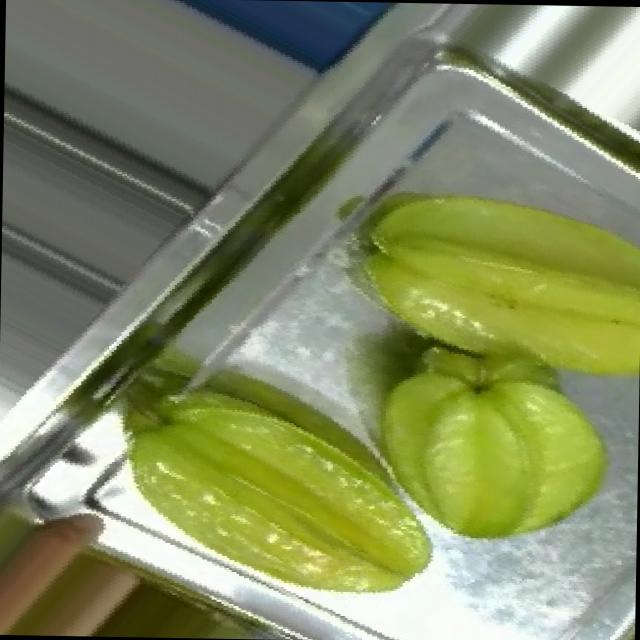fruit: (312, 132, 640, 478), (96, 340, 463, 640), (320, 310, 640, 602)
